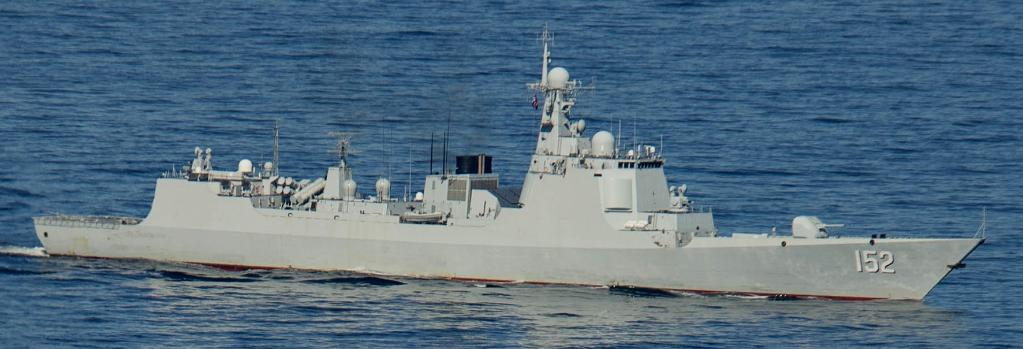Warship: (22, 29, 992, 307)
